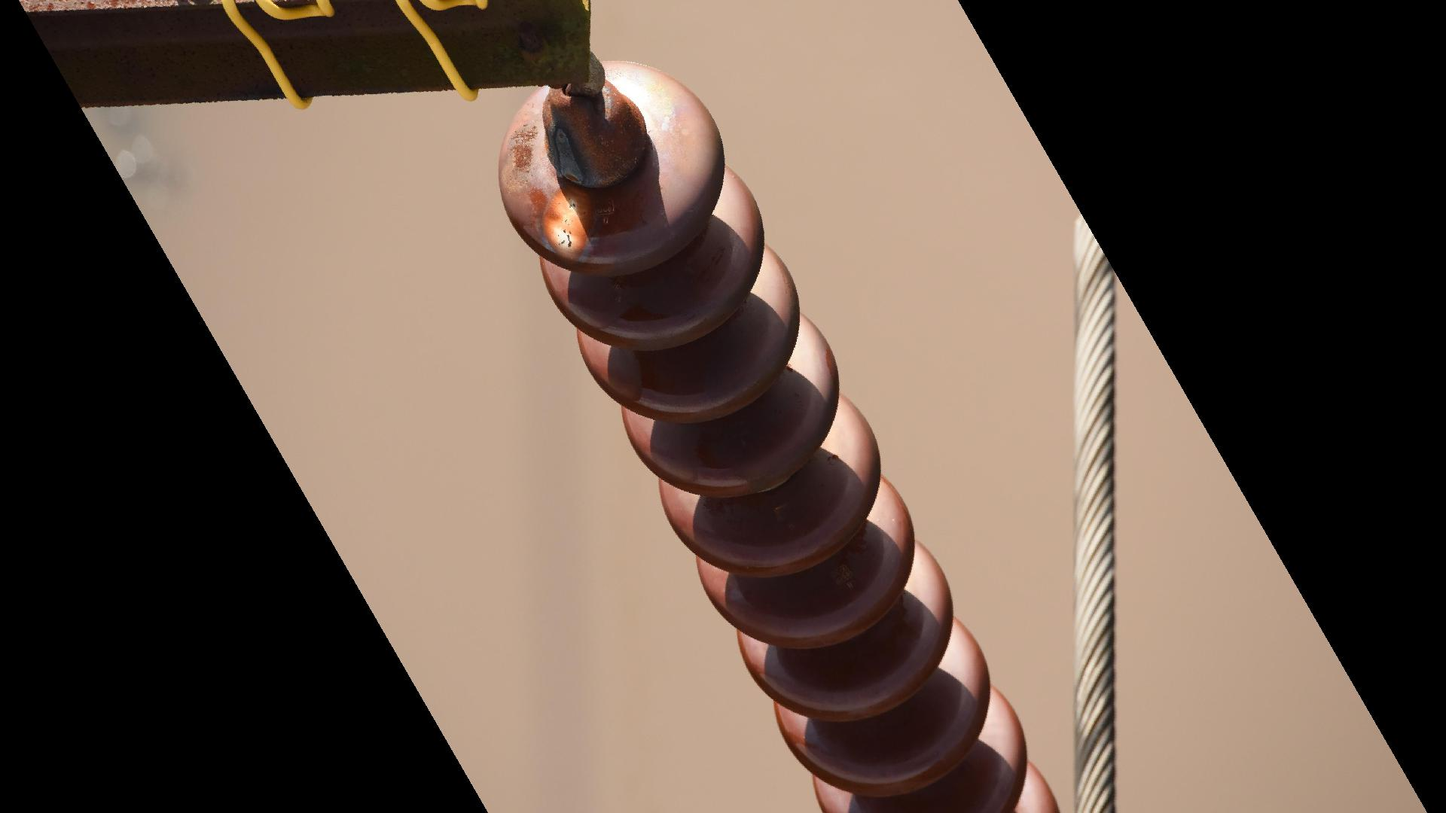insulator: (491, 55, 1072, 813)
insulator_flashover: (538, 183, 596, 263)
